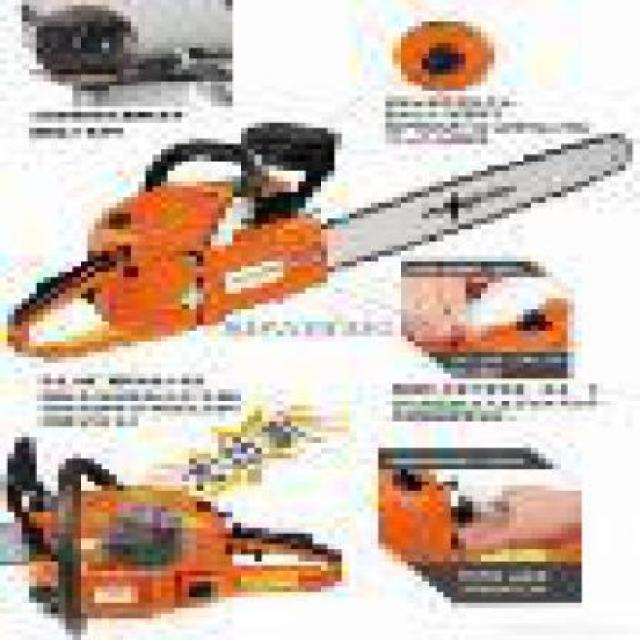Chainsaw: (0, 120, 631, 360), (0, 427, 343, 640)
